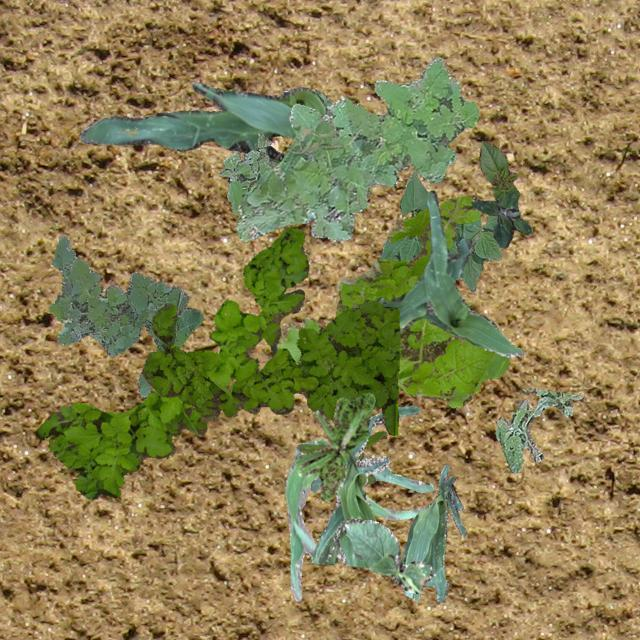crop: (374, 190, 522, 356), (285, 438, 433, 600), (78, 81, 326, 162), (310, 404, 420, 566), (378, 170, 502, 290), (402, 464, 466, 600), (339, 518, 434, 592), (478, 140, 518, 200), (307, 88, 333, 114)
weed: (35, 225, 306, 498), (270, 194, 508, 406), (237, 56, 478, 240), (142, 298, 398, 434), (48, 235, 202, 398), (294, 392, 374, 501), (493, 387, 582, 472), (296, 430, 386, 482), (218, 132, 276, 212), (470, 190, 530, 247)
